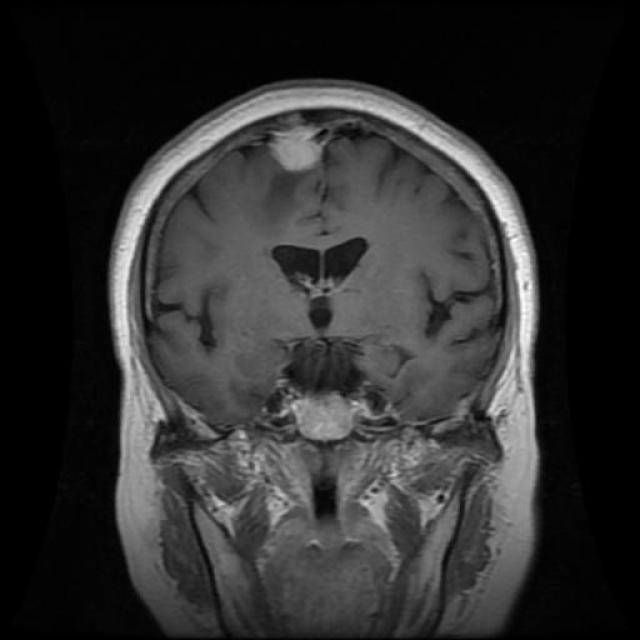meningioma: (271, 126, 320, 171)
